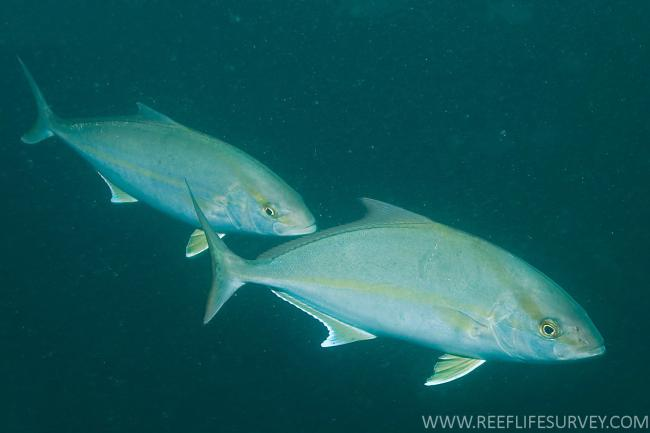fish: (186, 179, 606, 388), (16, 54, 317, 236)
